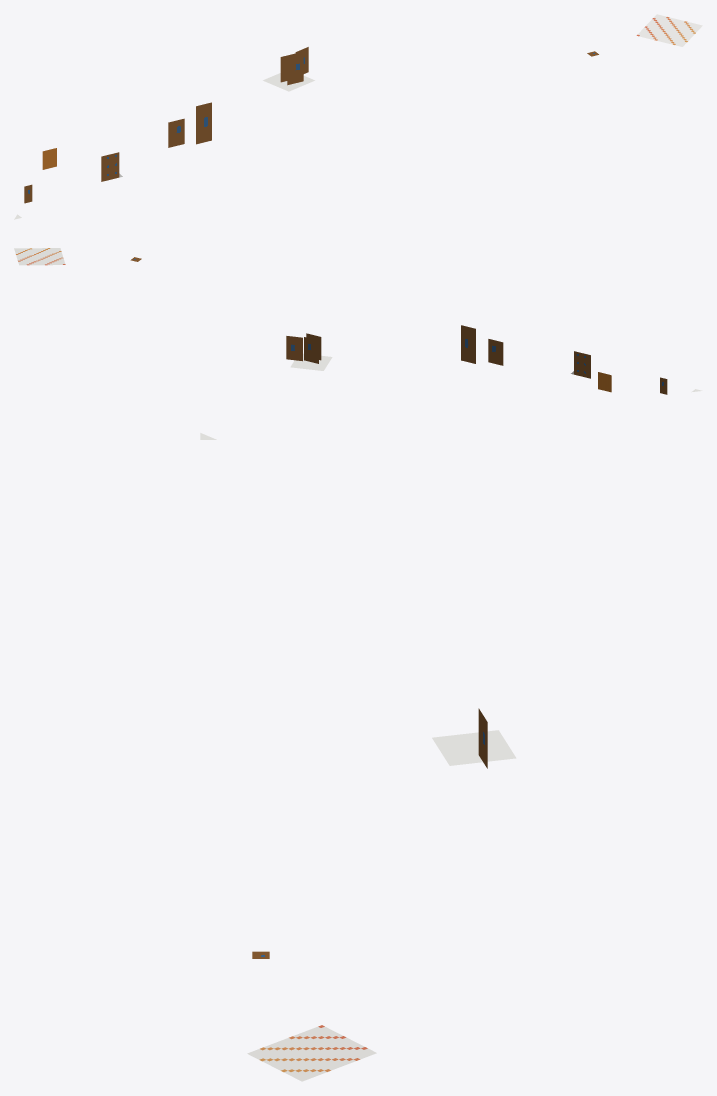
The model's file is figures.glb.
3 renders of one model, top to bottom at view 1: azimuth 30°, elevation 25°; view 2: azimuth 150°, elevation 25°; view 3: azimuth 270°, elevation 25°, orthographic. The views are drawn at different scales.
Parts seen in each view (by area): view 1: Hierba, Persona 2, Contorno, Persona colocada, Visitante 0, Plaza; view 2: Hierba, Persona 2, Contorno, Banco, Persona colocada, Plaza, Visitante 1, Group 1; view 3: Hierba, Plaza.
Part boxes in pixels (bbox=[...]): Hierba: bbox=[636, 14, 702, 46]; Persona 2: bbox=[196, 102, 211, 144]; Contorno: bbox=[101, 152, 122, 181]; Persona colocada: bbox=[168, 118, 184, 147]; Visitante 0: bbox=[287, 56, 303, 85]; Plaza: bbox=[263, 73, 314, 91]; Hierba: bbox=[14, 248, 65, 265]; Persona 2: bbox=[461, 325, 475, 363]; Contorno: bbox=[571, 351, 590, 378]; Banco: bbox=[286, 336, 302, 361]; Persona colocada: bbox=[488, 339, 503, 365]; Plaza: bbox=[290, 353, 332, 370]; Visitante 1: bbox=[304, 337, 318, 363]; Group 1: bbox=[598, 372, 611, 392]; Hierba: bbox=[247, 1025, 376, 1081]; Plaza: bbox=[432, 730, 516, 765].
Bounding box in the file's own units: 88.42 × 4.83 × 18.25.
21 materials, 2 textured.
